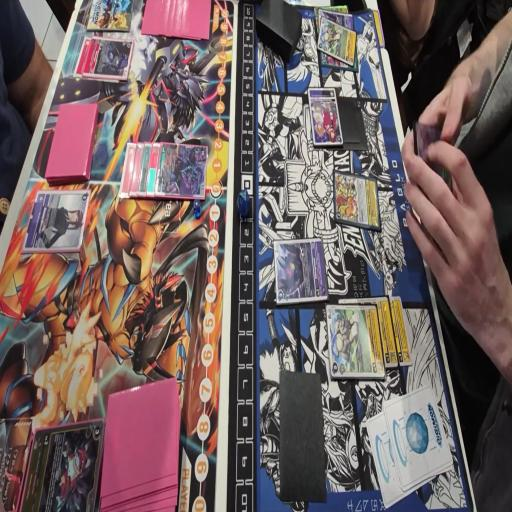card: (18, 414, 106, 512), (21, 192, 92, 253), (329, 304, 384, 379), (272, 235, 325, 302), (334, 172, 382, 232), (156, 145, 209, 194), (82, 40, 135, 80), (318, 17, 356, 69), (308, 88, 338, 152), (388, 295, 412, 365), (377, 296, 399, 366), (118, 139, 137, 199), (129, 142, 145, 199), (146, 144, 162, 198), (318, 10, 356, 31), (139, 144, 154, 197), (75, 33, 90, 76), (313, 2, 348, 18)
